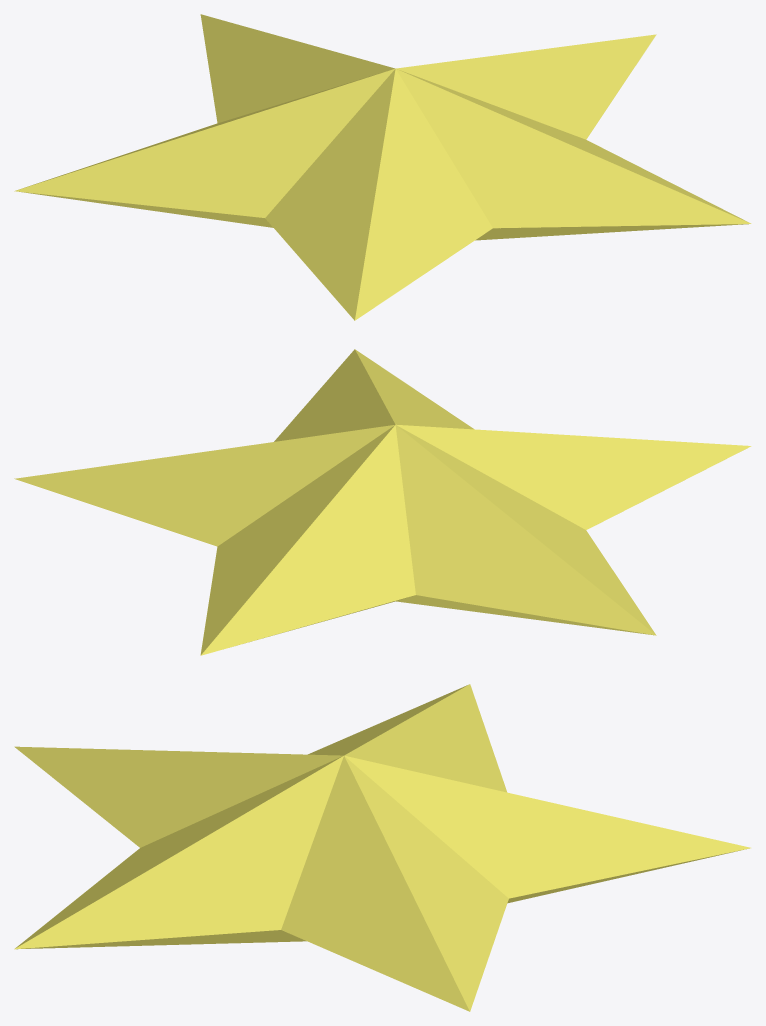
File: Star.fbx
The picture shows the model from 3 angles, top to bottom: view 1: azimuth 30°, elevation 25°; view 2: azimuth 150°, elevation 25°; view 3: azimuth 270°, elevation 25°; orthographic projection. The views are drawn at different scales.
Visible parts, largest first — view 1: Circle; view 2: Circle; view 3: Circle.
Boxes of the visible parts, left/top/right/bottom form: Circle: left=14, top=14, right=751, bottom=320; Circle: left=14, top=349, right=751, bottom=655; Circle: left=14, top=684, right=750, bottom=1011.
Size of the model in its own units: 381 by 99.99 by 362.
